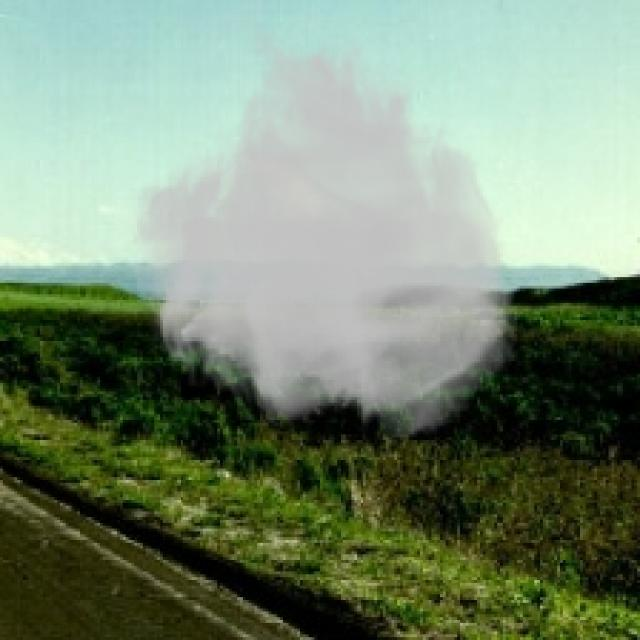smoke: (129, 23, 520, 443)
